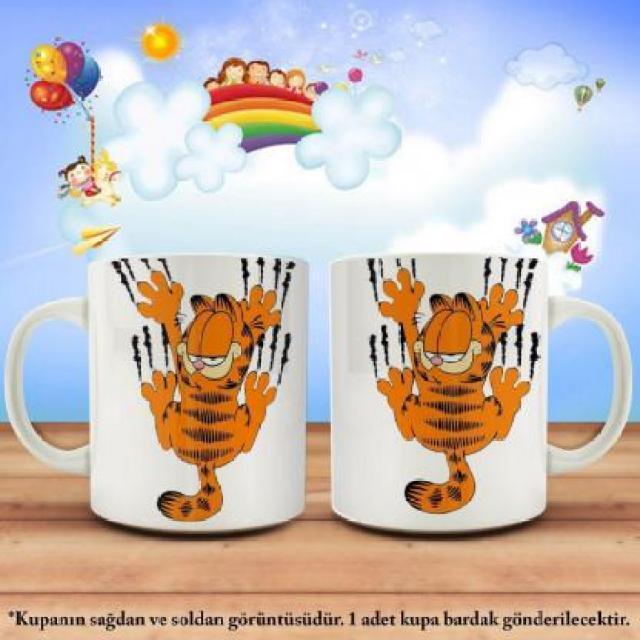taza: (4, 252, 315, 538), (326, 250, 634, 538)
